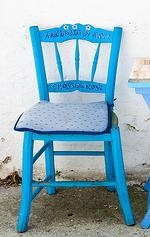obstacle: (14, 23, 134, 231)
